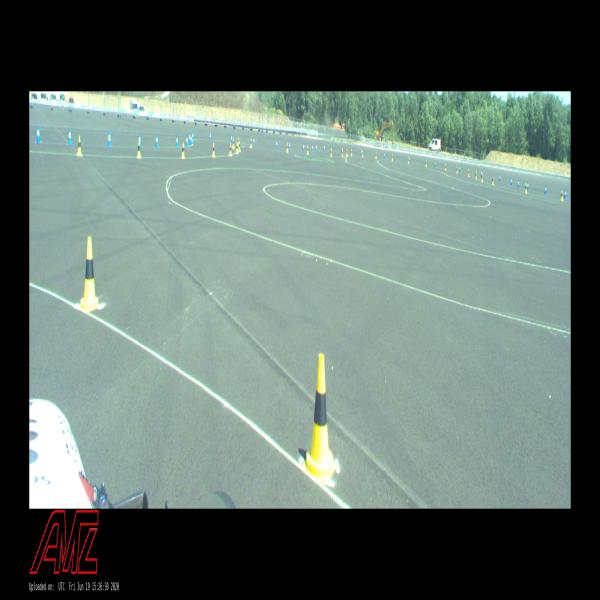blue_cone: (107, 131, 112, 147), (68, 128, 72, 145), (36, 125, 40, 142), (138, 133, 142, 147), (155, 134, 159, 147), (544, 184, 547, 195), (176, 134, 178, 148), (302, 143, 305, 151), (189, 132, 191, 144), (564, 188, 566, 199), (186, 135, 188, 146), (192, 131, 194, 141), (191, 135, 193, 145), (518, 179, 520, 188), (253, 137, 255, 146), (499, 174, 501, 182), (210, 132, 212, 140), (276, 140, 278, 148), (289, 142, 291, 150), (323, 145, 325, 152), (434, 162, 436, 168), (459, 166, 461, 172), (481, 170, 483, 176), (231, 134, 232, 143), (312, 144, 313, 152), (511, 178, 512, 186), (316, 144, 317, 152), (527, 182, 528, 190), (361, 149, 362, 156), (384, 152, 385, 158)
yellow_cone: (302, 353, 337, 484), (81, 236, 98, 310), (77, 136, 82, 156), (181, 142, 185, 159), (137, 142, 141, 158), (212, 142, 216, 157), (229, 143, 232, 156), (238, 141, 241, 152), (286, 142, 289, 152), (232, 138, 235, 148), (341, 148, 344, 157), (236, 142, 238, 154), (561, 190, 563, 201), (444, 164, 447, 171), (307, 144, 309, 154), (330, 148, 332, 158), (250, 138, 252, 148), (481, 172, 483, 182), (525, 183, 527, 193), (492, 176, 494, 185), (475, 171, 477, 179), (468, 169, 470, 177), (346, 148, 348, 156), (425, 160, 427, 167), (456, 166, 458, 173), (375, 152, 377, 159), (351, 148, 352, 156), (408, 157, 409, 164), (362, 150, 363, 157), (392, 155, 393, 161), (238, 137, 238, 147)
